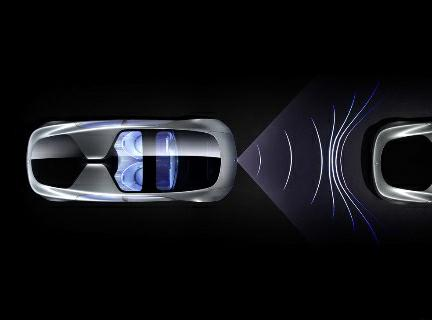奔驰-F015: (21, 108, 238, 215)
